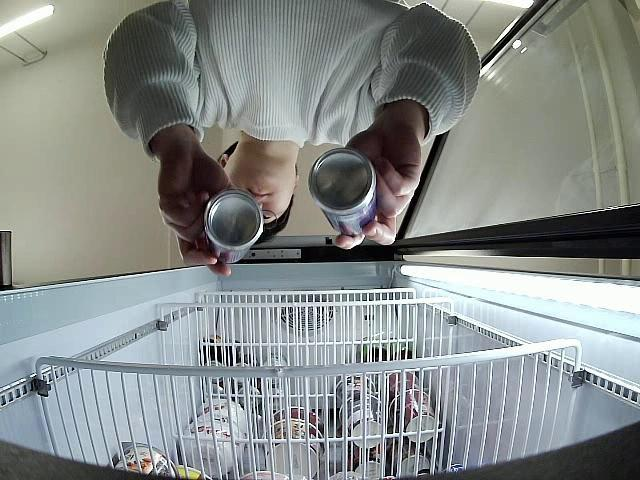16_hot6: (310, 148, 380, 238), (200, 190, 262, 265)
